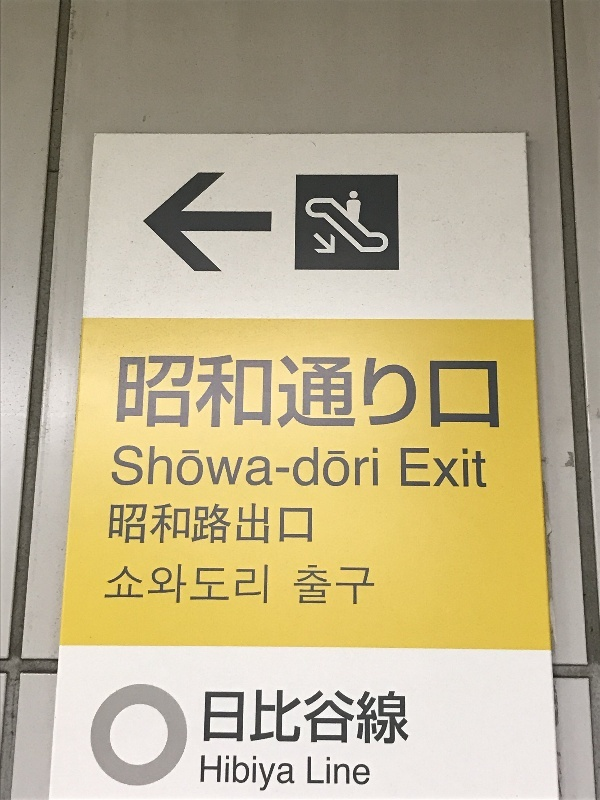text: (129, 350, 144, 434), (145, 350, 160, 434), (161, 350, 176, 434), (177, 350, 192, 434), (193, 350, 208, 434), (209, 350, 224, 434), (225, 350, 240, 434), (241, 350, 256, 434), (257, 350, 272, 434), (273, 350, 288, 434), (289, 350, 304, 434), (305, 350, 320, 434), (321, 350, 336, 434), (337, 350, 352, 434), (353, 350, 368, 434), (369, 350, 384, 434), (385, 350, 400, 434), (401, 350, 416, 434), (417, 350, 432, 434), (433, 350, 448, 434), (449, 350, 464, 434), (465, 350, 480, 434), (481, 350, 496, 434), (209, 685, 224, 755), (225, 685, 240, 755), (241, 685, 256, 755), (257, 685, 272, 755), (273, 685, 288, 755), (289, 685, 304, 755), (305, 685, 320, 755), (321, 685, 336, 755), (337, 685, 352, 755), (353, 685, 368, 755), (369, 685, 384, 755), (385, 685, 400, 755), (113, 500, 128, 551), (129, 500, 144, 551), (145, 500, 160, 551), (161, 500, 176, 551), (177, 500, 192, 551), (193, 500, 208, 551), (209, 500, 224, 551), (225, 500, 240, 551), (241, 500, 256, 551), (257, 500, 272, 551), (273, 500, 288, 551), (289, 500, 304, 551), (129, 444, 144, 495), (145, 444, 160, 495), (161, 444, 176, 495), (177, 444, 192, 495), (193, 444, 208, 495), (209, 444, 224, 495), (225, 444, 240, 495), (241, 444, 256, 495), (257, 444, 272, 495), (273, 444, 288, 495), (289, 444, 304, 495), (305, 444, 320, 495), (321, 444, 336, 495), (337, 444, 352, 495), (353, 444, 368, 495), (369, 444, 384, 495), (385, 444, 400, 495), (401, 444, 416, 495), (417, 444, 432, 495), (433, 444, 448, 495), (449, 444, 464, 495), (465, 444, 480, 495), (113, 562, 128, 608), (129, 562, 144, 608), (145, 562, 160, 608), (161, 562, 176, 608), (177, 562, 192, 608), (193, 562, 208, 608), (209, 562, 224, 608), (225, 562, 240, 608), (241, 562, 256, 608), (257, 562, 272, 608), (273, 562, 288, 608), (289, 562, 304, 608), (305, 562, 320, 608), (321, 562, 336, 608), (337, 562, 352, 608), (353, 562, 368, 608), (120, 350, 128, 434), (115, 444, 128, 495), (209, 752, 224, 795), (225, 752, 240, 795), (241, 752, 256, 795), (257, 752, 272, 795), (273, 752, 288, 795), (289, 752, 304, 795), (305, 752, 320, 795), (321, 752, 336, 795), (337, 752, 352, 795), (353, 752, 368, 795), (401, 685, 410, 755), (305, 500, 317, 551), (497, 350, 504, 434), (481, 444, 491, 495), (200, 752, 208, 795), (369, 562, 376, 608), (205, 685, 208, 755), (109, 500, 112, 551), (369, 752, 372, 795), (110, 562, 112, 608)
